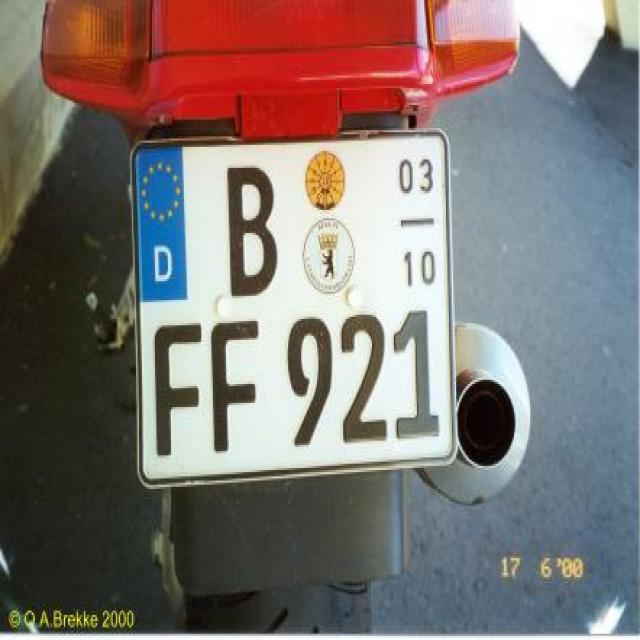license-plates: (131, 133, 455, 488)
